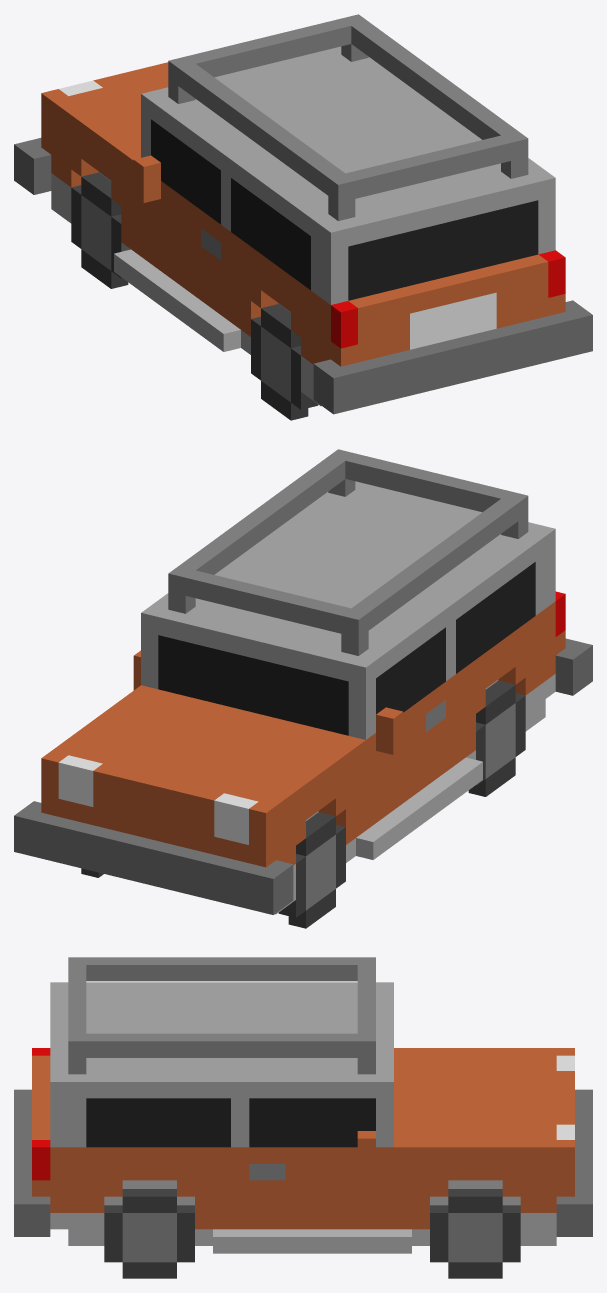
Rendered from cars-1.obj.
The picture shows the model from 3 angles, top to bottom: view 1: azimuth 30°, elevation 25°; view 2: azimuth 150°, elevation 25°; view 3: azimuth 270°, elevation 25°; orthographic projection. The views are drawn at different scales.
Bounding box in the file's own units: 1.5 × 1.4 × 3.2.
